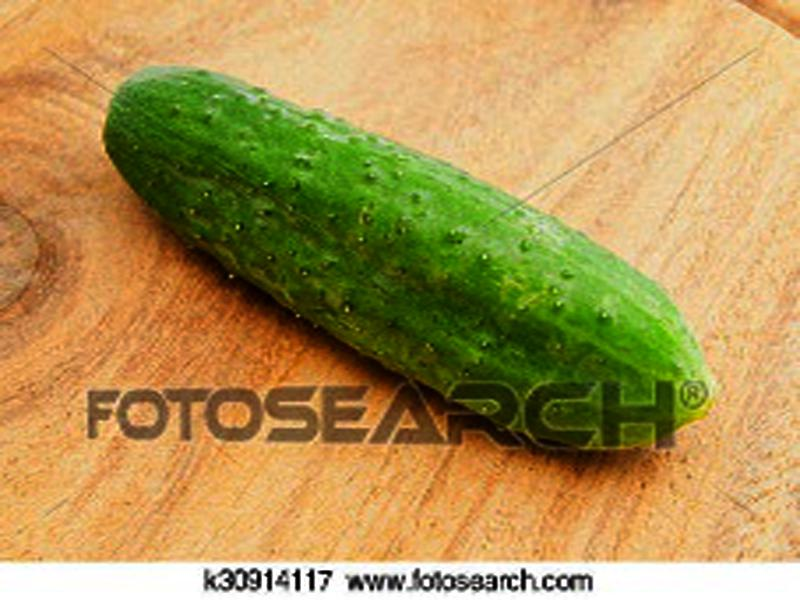Cucumber: (102, 66, 715, 455)
